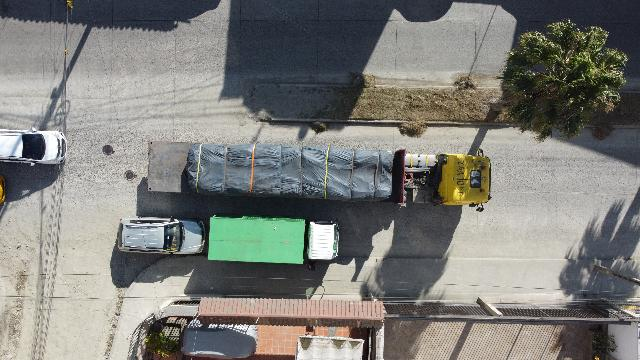Vehiculo: (117, 216, 205, 256), (0, 128, 66, 166)
